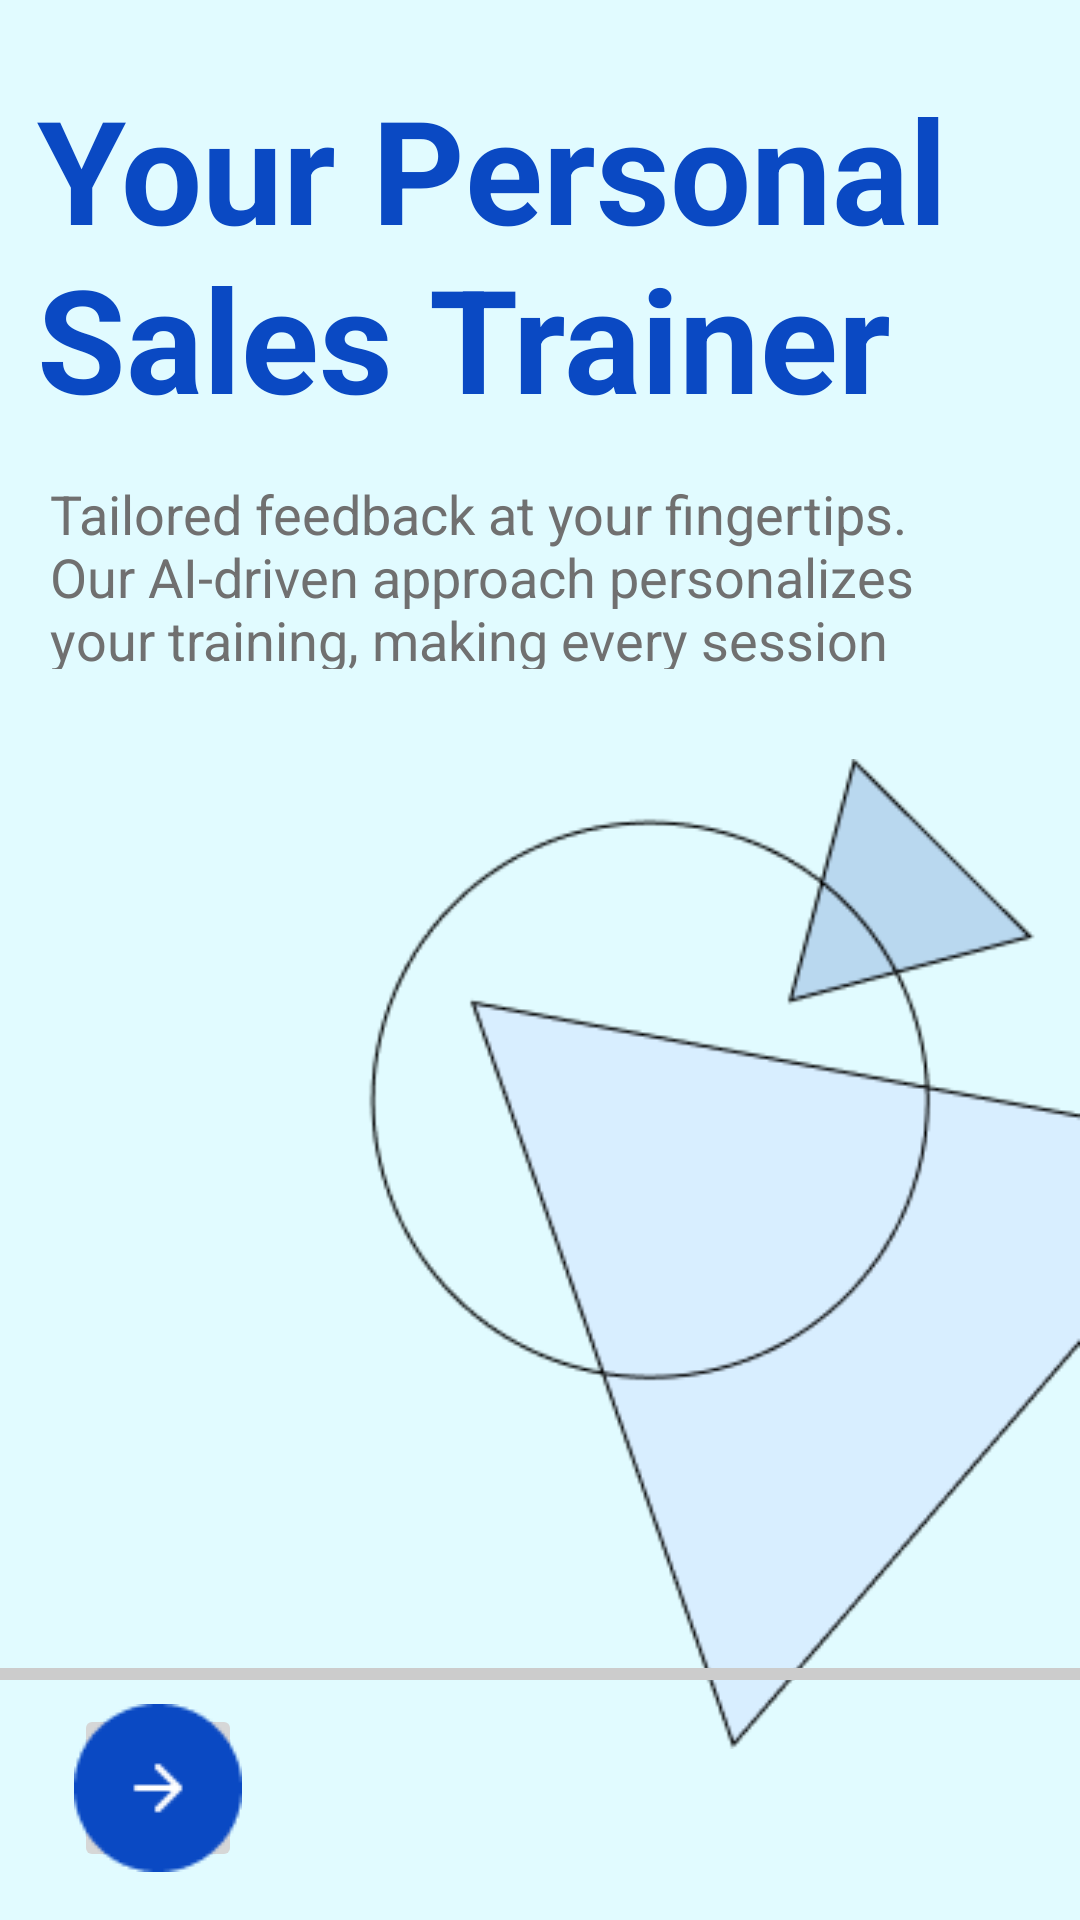

Named icons in this screenshot (1080 x 1920) and their centers, point (x, y):
next: point (158, 1788)
